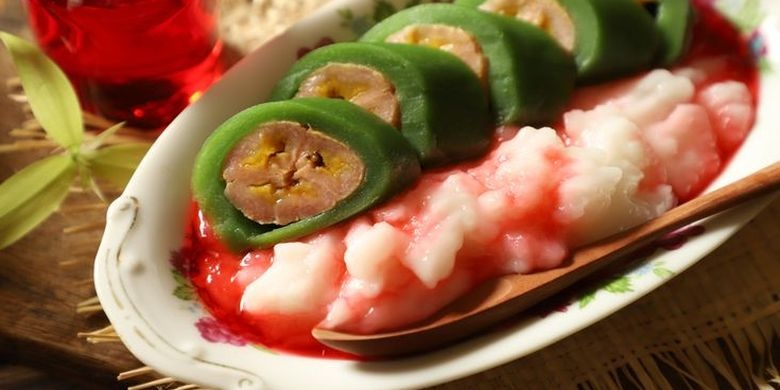pisang_ijo: (201, 86, 416, 264)
